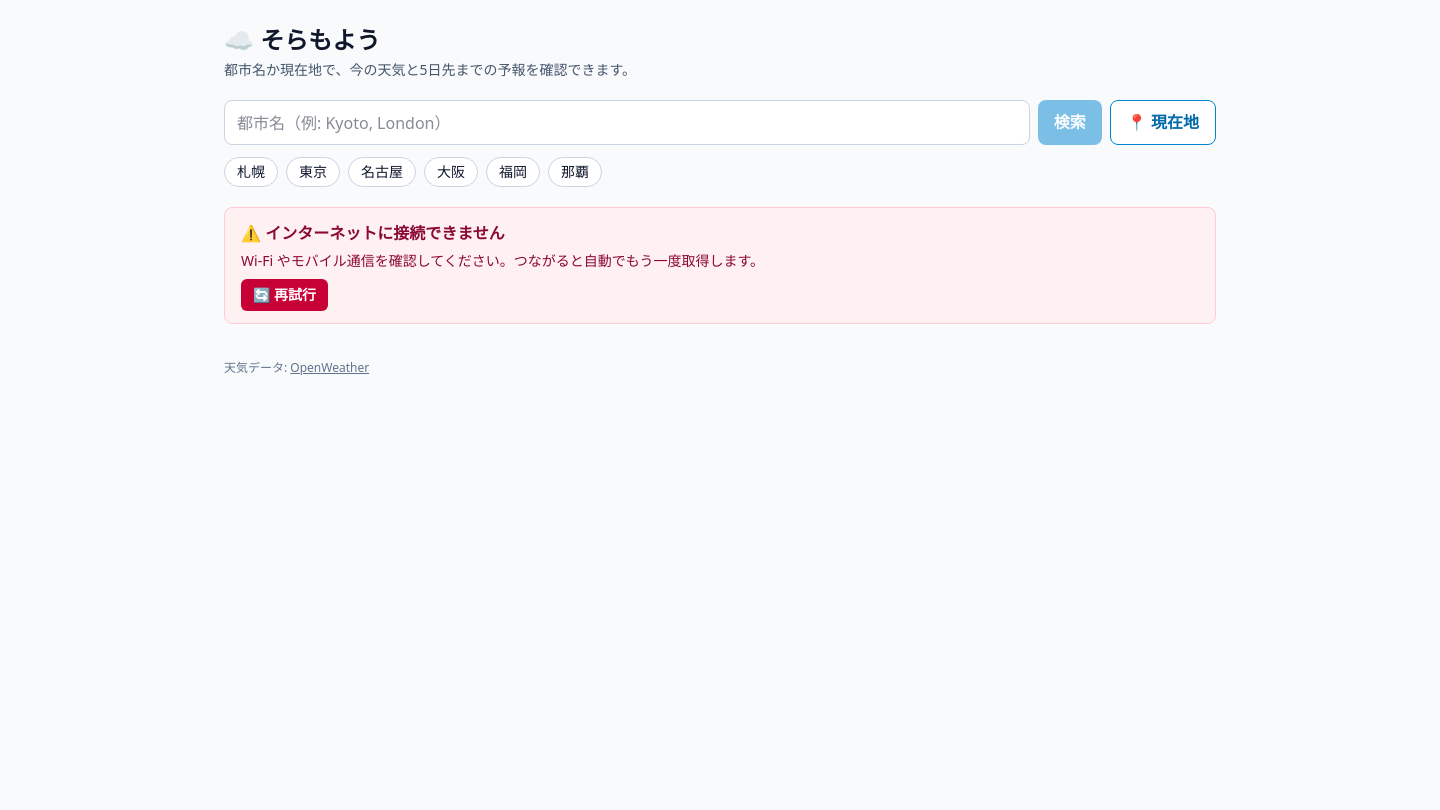
Test: エラー対応（機能3） › 通信に失敗したら案内と再試行ボタンを出し、再試行で表示できる
Expected: the message shows "インターネットに接続できません", x1=265 y1=222 x2=505 y2=244
Click the button "🔄 再試行": (285, 295) x1=241 y1=279 x2=328 y2=311
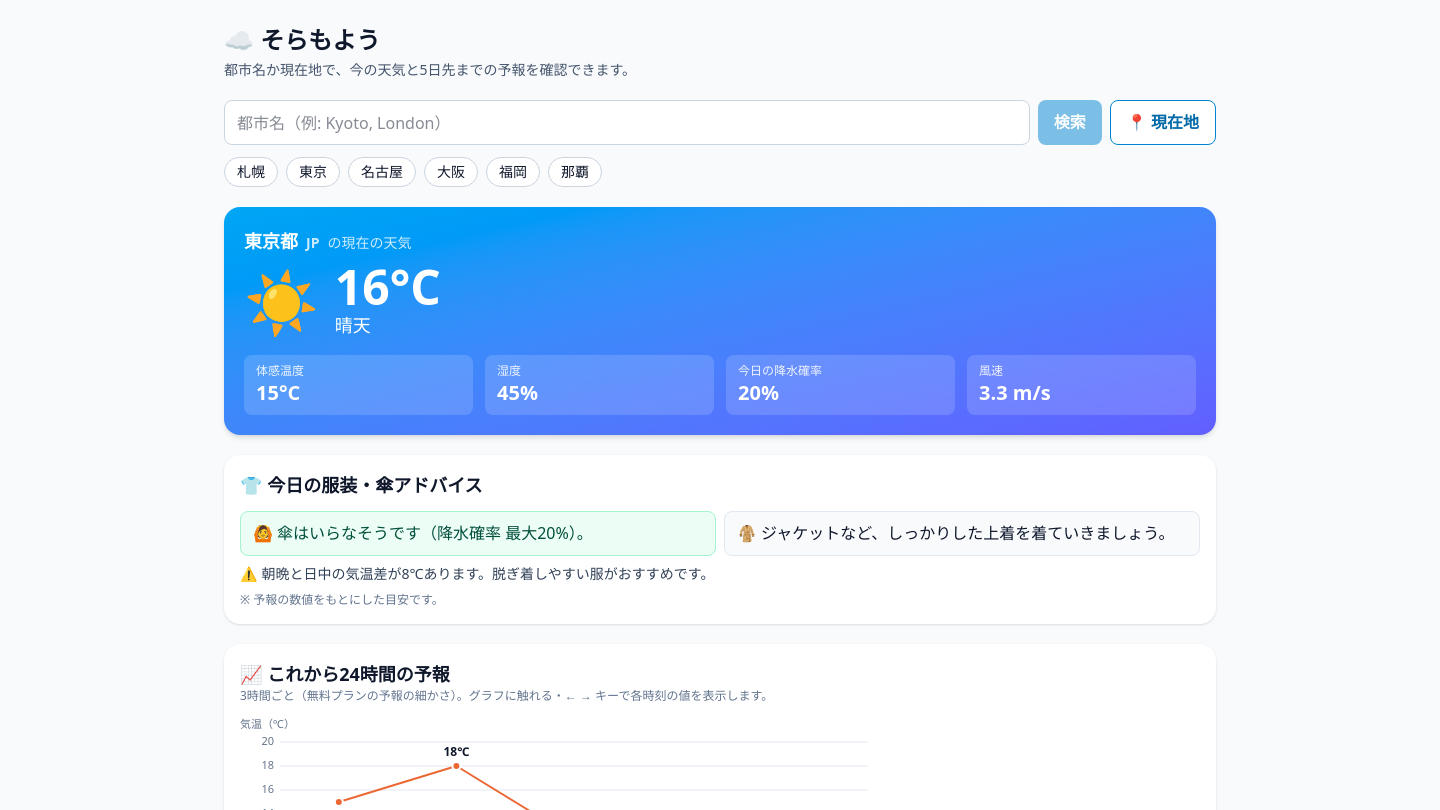
Expected: the element that starts with "東京都" is shown, x1=224 y1=207 x2=1216 y2=435
Expected: the message "⚠️ インターネットに接続できません Wi-Fi やモバイル通信を確認してください。つながると自動でもう一度取得します。 🔄 再試行" is gone
